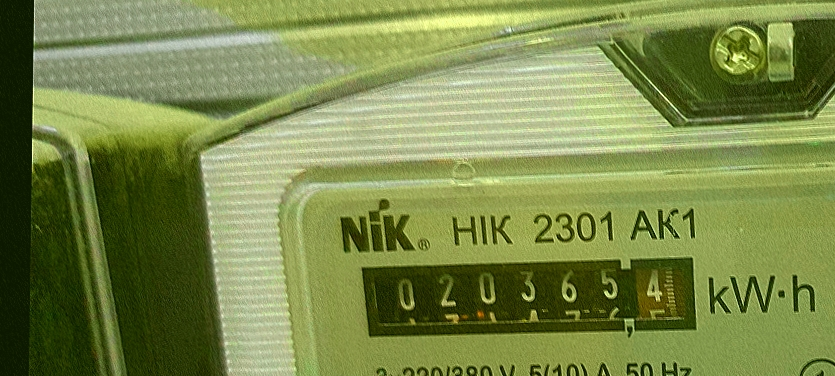0: (476, 269, 496, 305), (394, 276, 415, 310)
2: (434, 271, 456, 307)
3: (517, 267, 536, 302)
4: (643, 267, 662, 301)
5: (598, 266, 618, 299)
6: (557, 267, 577, 303)
screen: (344, 242, 714, 350)
